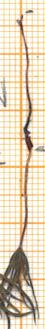flower: (0, 246, 45, 329)
root: (15, 12, 37, 149)
stem: (14, 149, 35, 248)
